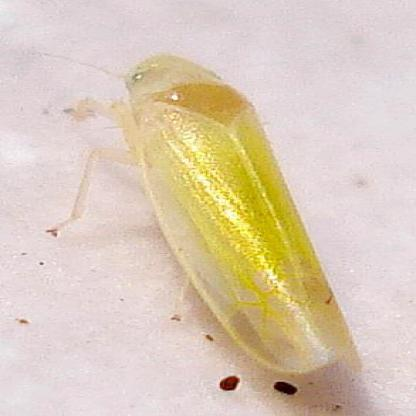green-leafhopper: (110, 53, 359, 372)
